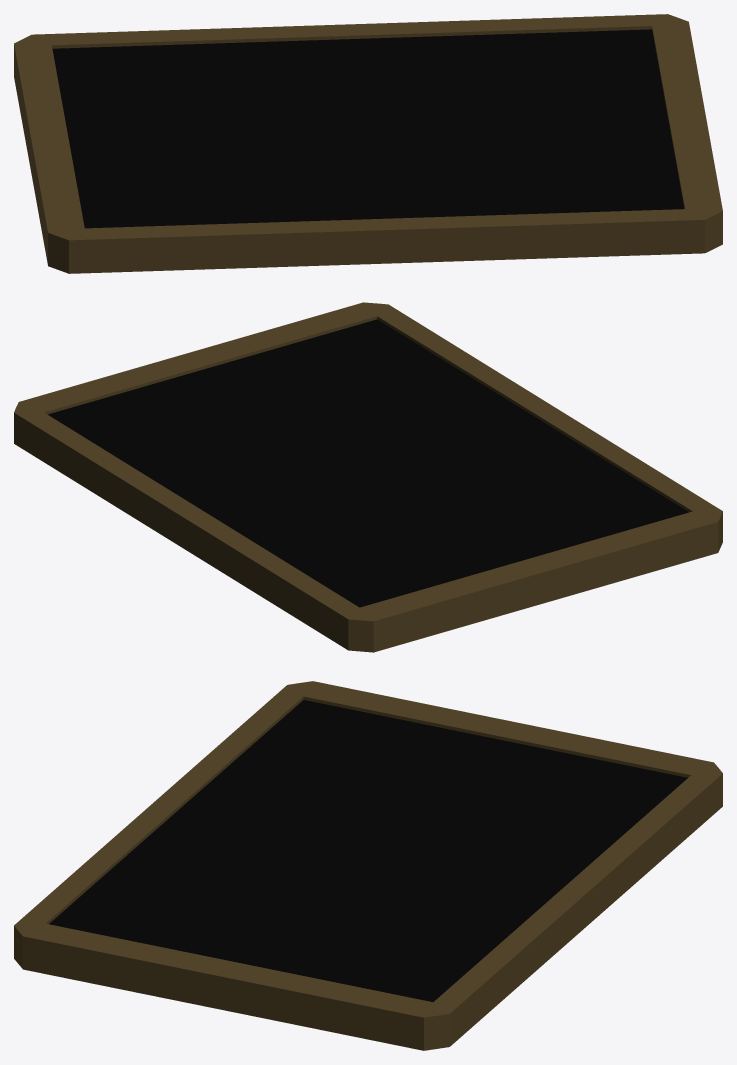
Rendered from miniChlkbrd.fbx.
The picture shows the model from 3 angles, top to bottom: view 1: azimuth 30°, elevation 25°; view 2: azimuth 150°, elevation 25°; view 3: azimuth 270°, elevation 25°; orthographic projection. The views are drawn at different scales.
Visible parts, largest first — view 1: miniChlkbrd; view 2: miniChlkbrd; view 3: miniChlkbrd.
Part boxes in pixels (box(x1,y1,x2,y2)): miniChlkbrd: box(14, 14, 722, 273); miniChlkbrd: box(14, 302, 722, 652); miniChlkbrd: box(14, 681, 722, 1050).
Size of the model in its own units: 37.33 by 1.72 by 33.23.
